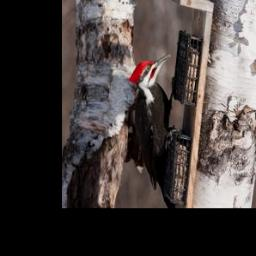Woodpecker: (126, 52, 180, 190)
